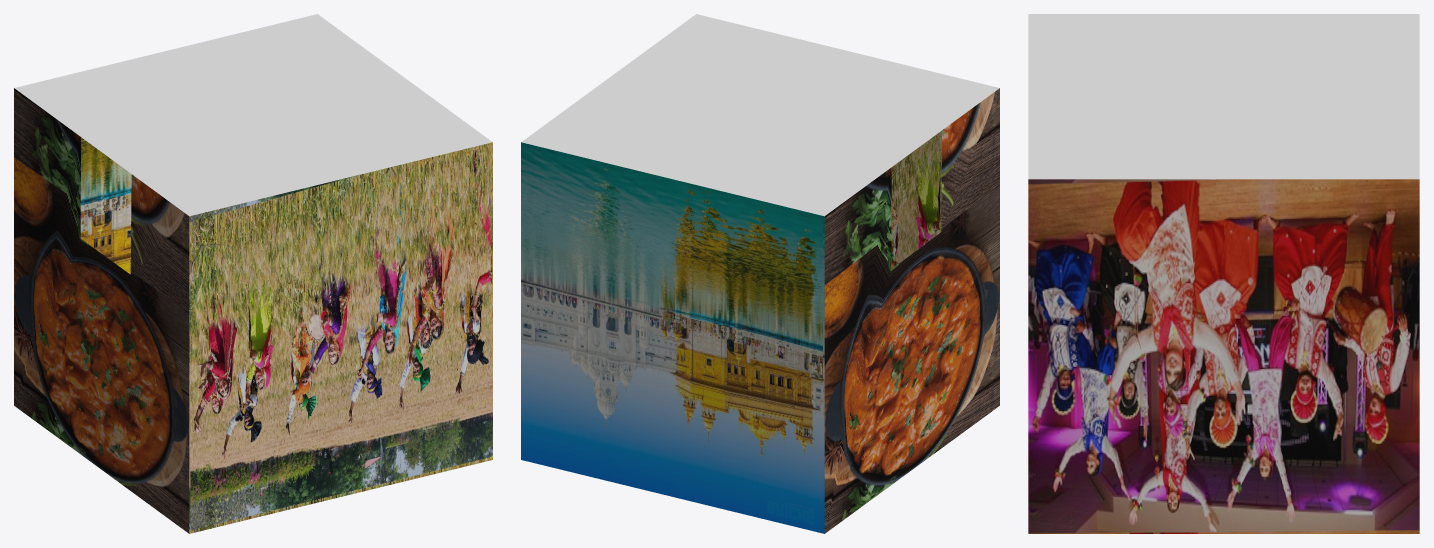
File: Punjab.glb
3 views of the same model, side by side, from view 1: azimuth 30°, elevation 25°; view 2: azimuth 150°, elevation 25°; view 3: azimuth 270°, elevation 25° (orthographic). The views are drawn at different scales.
Visible parts, largest first — view 1: Cube.003, Cube, Cube.005, Cube.002; view 2: Cube.002, Cube, Cube.005, Cube.003; view 3: Cube.004, Cube.
Part boxes in pixels (x1=…): Cube.003: x1=189, y1=142, x2=492, y2=533; Cube: x1=14, y1=14, x2=492, y2=216; Cube.005: x1=14, y1=88, x2=189, y2=533; Cube.002: x1=80, y1=137, x2=131, y2=274; Cube.002: x1=521, y1=142, x2=824, y2=533; Cube: x1=521, y1=14, x2=999, y2=216; Cube.005: x1=824, y1=88, x2=999, y2=533; Cube.003: x1=891, y1=130, x2=941, y2=269; Cube.004: x1=1028, y1=179, x2=1419, y2=533; Cube: x1=1028, y1=14, x2=1419, y2=179.
Size of the model in its own units: 94.76 by 94.76 by 94.76.
5 materials, 4 textured.
